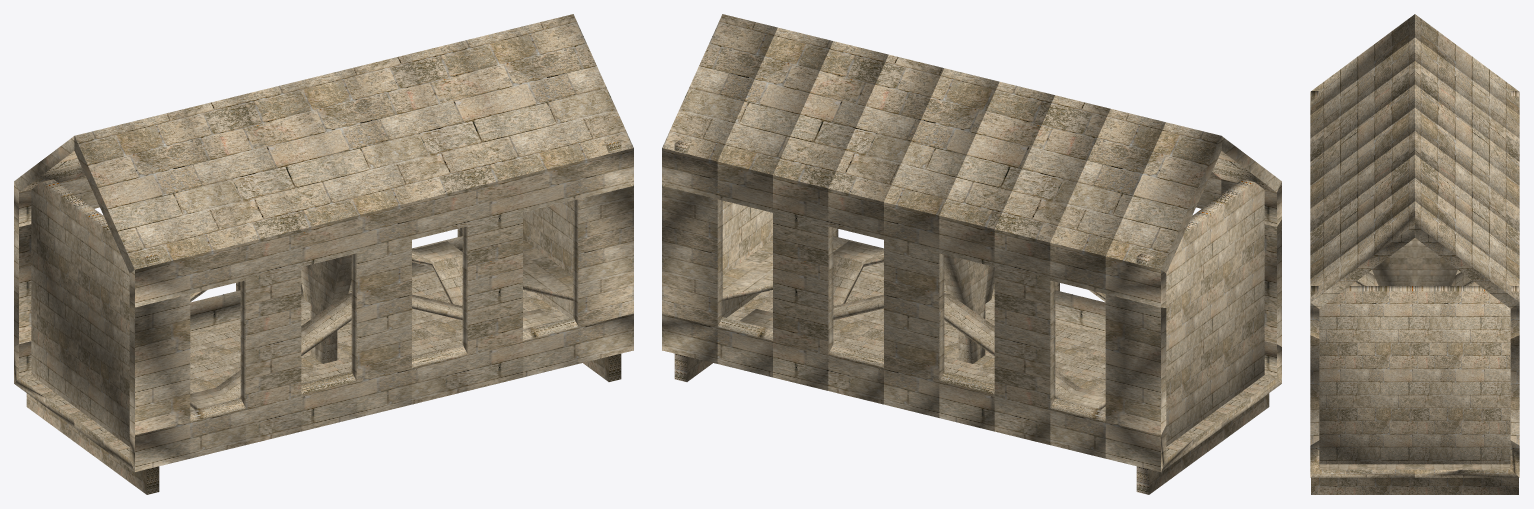
The model's file is FactoryLevel.obj.
3 renders of one model, left to right at view 1: azimuth 30°, elevation 25°; view 2: azimuth 150°, elevation 25°; view 3: azimuth 270°, elevation 25°, orthographic. The views are drawn at different scales.
Visible parts, largest first — view 1: Factory_Cube.001; view 2: Factory_Cube.001; view 3: Factory_Cube.001.
Part boxes in pixels (x1,y1,x2,y2): Factory_Cube.001: (14, 14, 633, 494); Factory_Cube.001: (662, 14, 1281, 494); Factory_Cube.001: (1310, 14, 1519, 494).
Size of the model in its own units: 20.83 by 12.69 by 8.73.
